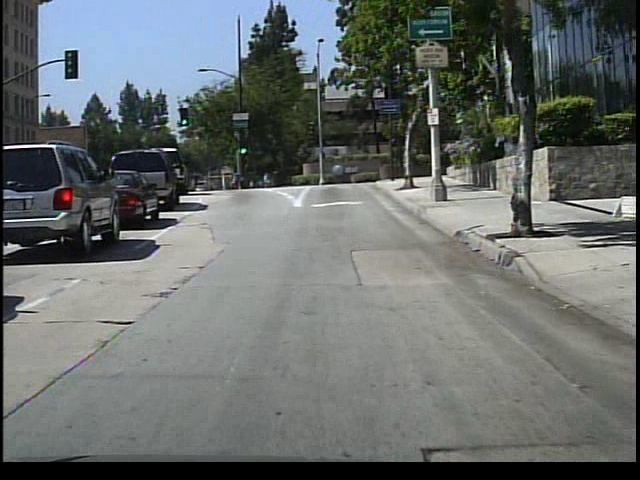person: (258, 166, 274, 191), (228, 166, 243, 191)
